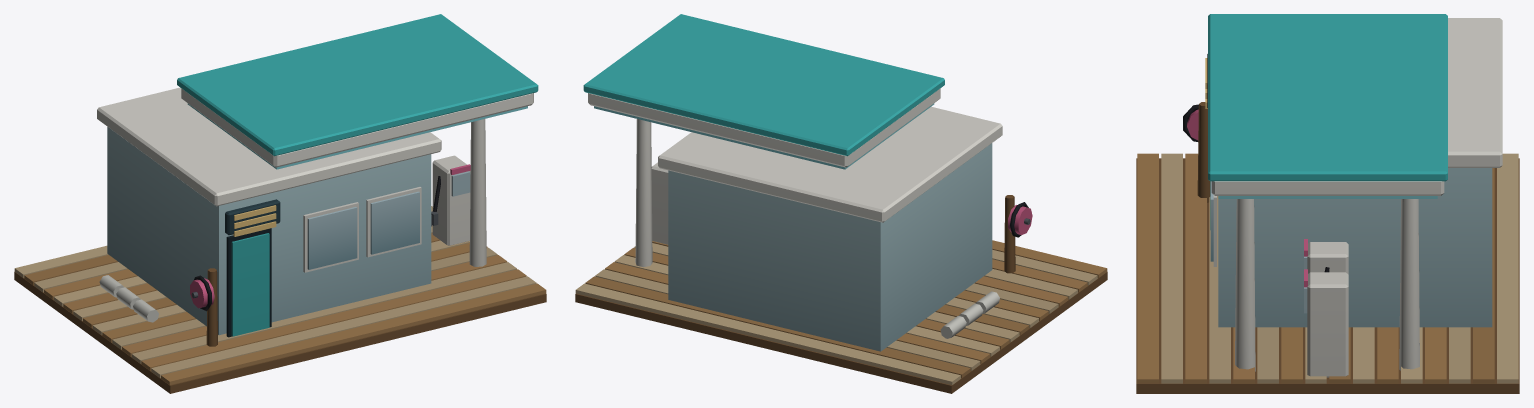
File: marina_fuel_dock_office.glb
The picture shows the model from 3 angles, left to right: view 1: azimuth 30°, elevation 25°; view 2: azimuth 150°, elevation 25°; view 3: azimuth 270°, elevation 25°; orthographic projection. The views are drawn at different scales.
Parts seen in each view (by area): view 1: marina_fuel_dock_office; view 2: marina_fuel_dock_office; view 3: marina_fuel_dock_office.
Boxes of the visible parts, box(x1,y1,x2,y2) form: marina_fuel_dock_office: box(14, 14, 546, 393); marina_fuel_dock_office: box(575, 14, 1107, 393); marina_fuel_dock_office: box(1136, 14, 1519, 393).
Size of the model in its own units: 8.25 by 3.78 by 5.6.
